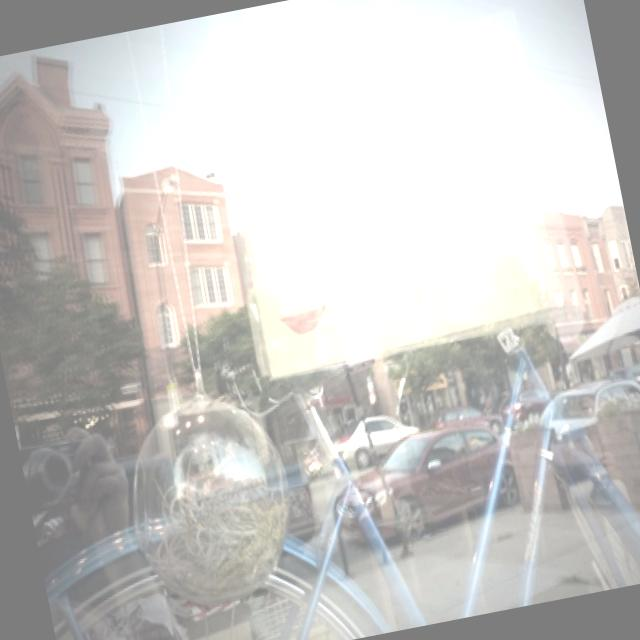Vehicle: (323, 417, 524, 561), (535, 369, 640, 446), (333, 409, 424, 472), (434, 400, 506, 443)
